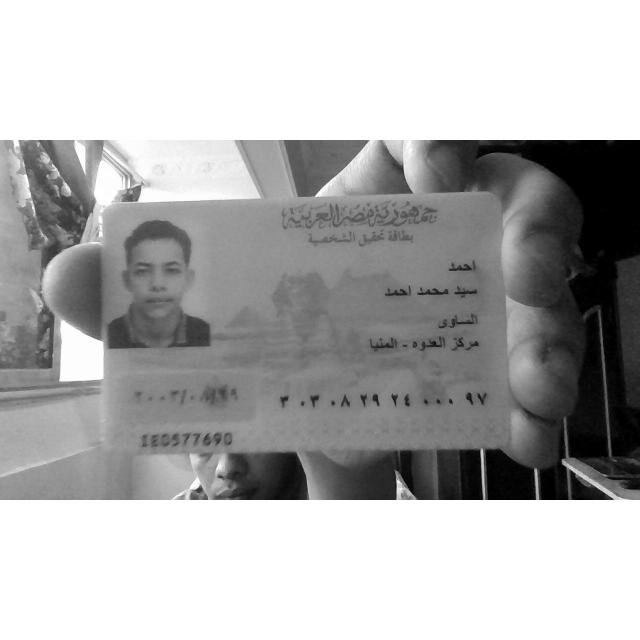id_card: (101, 192, 513, 454)
